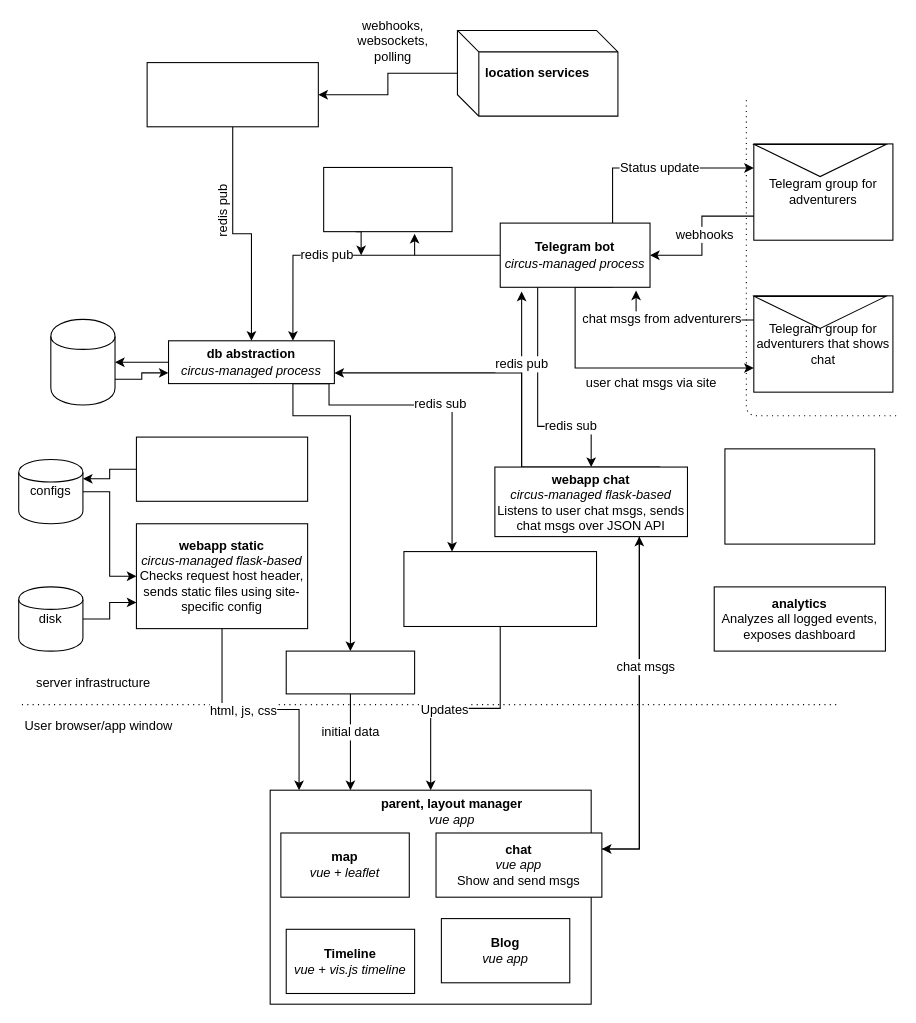
The diagram is 916 pixels wide and 1023 high, and some of its shapes have lost their labels. Each missing label, with the box of its shape:
Aggregate location data circus-managed process: (146, 62, 318, 127)
redis: (50, 318, 115, 405)
status m/monit Polls health of all services, shows status page and notifies: (724, 448, 875, 544)
transcode media rq task: (323, 166, 452, 232)
webapp admin circus-managed flask-based Config new sites, change site skin, etc.: (135, 436, 308, 501)
webapp rest api: (285, 650, 415, 694)
webapp updates circus-managed flask-based Presents data over websocket JSON API: (403, 551, 597, 626)
